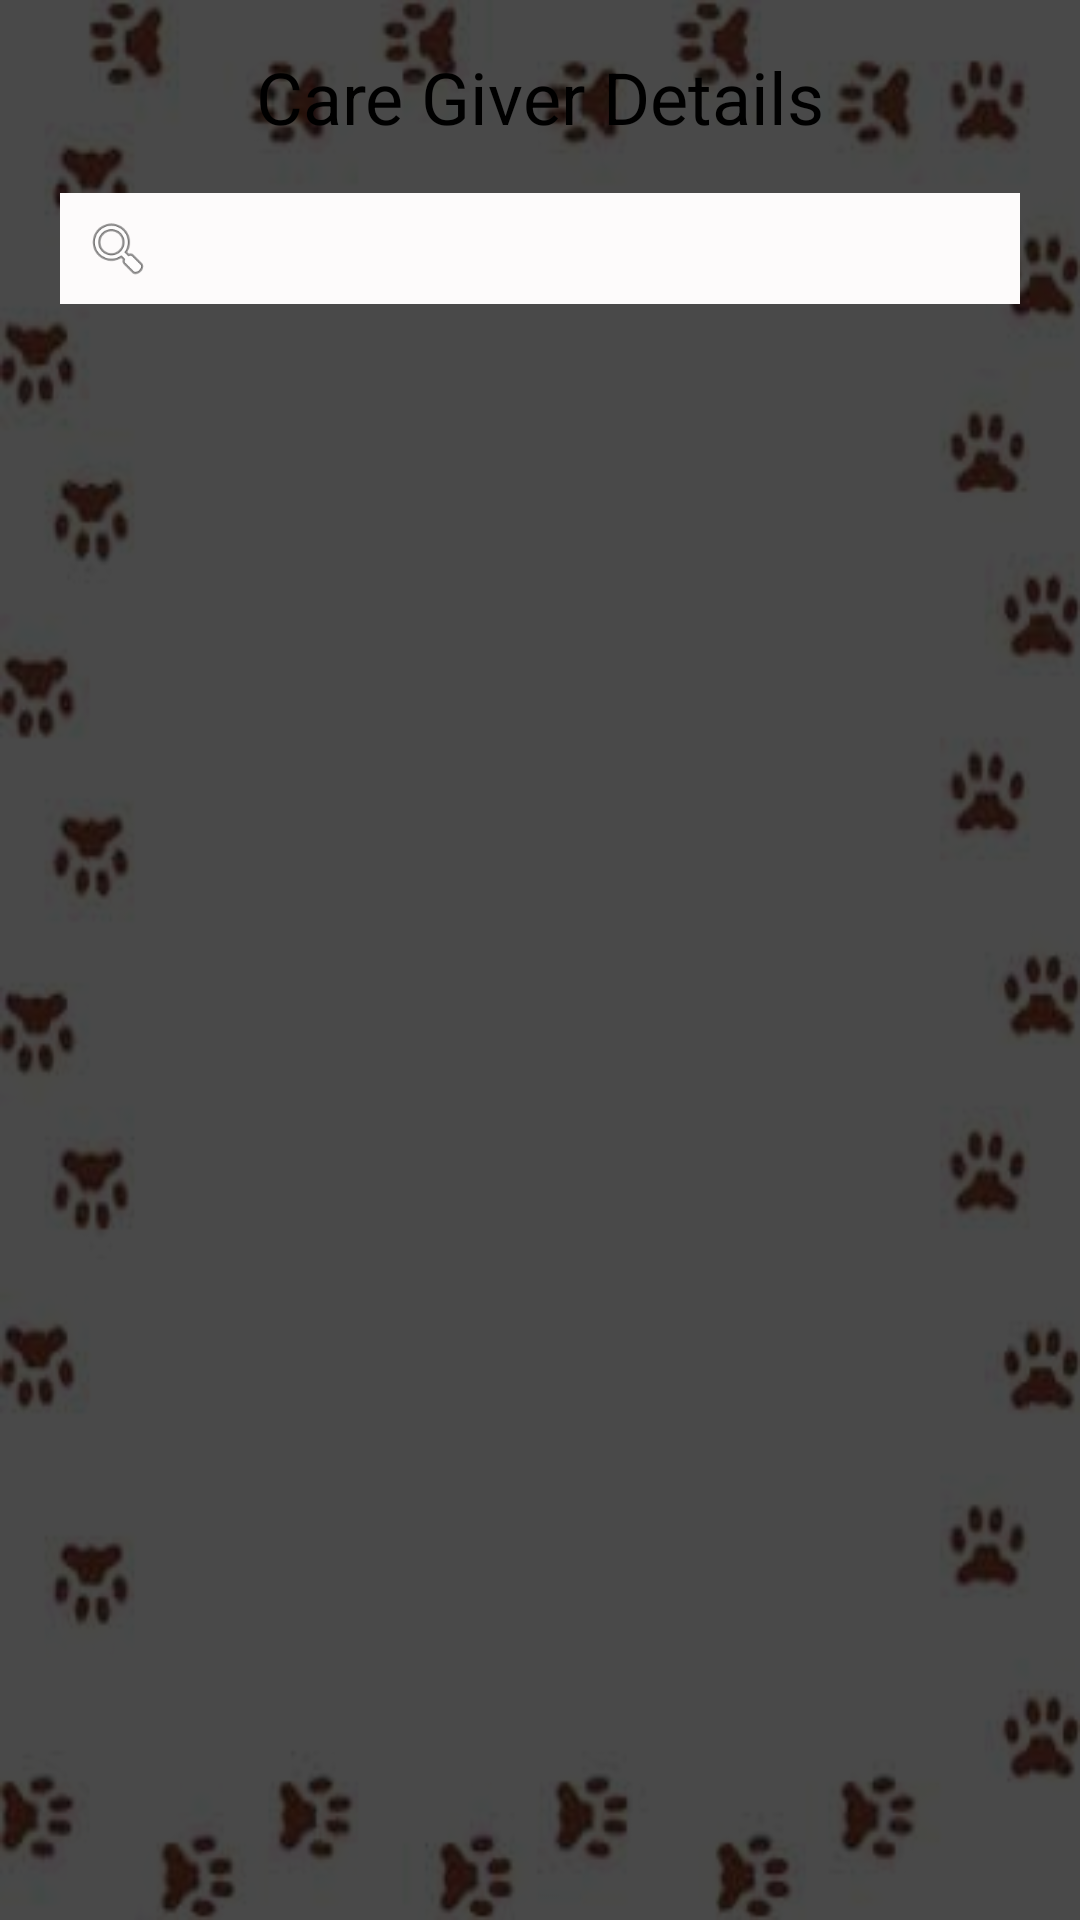

Icon click points for this 1080*1920 phone screenshot, format point (x, y):
search: point (118, 248)
